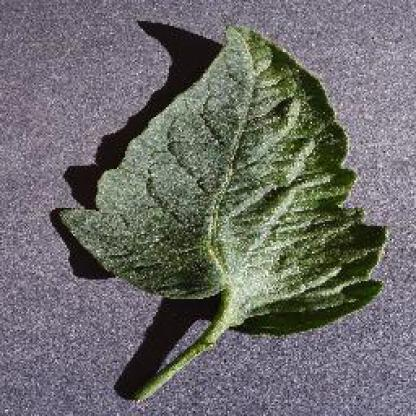good leaf: (105, 24, 362, 318)
